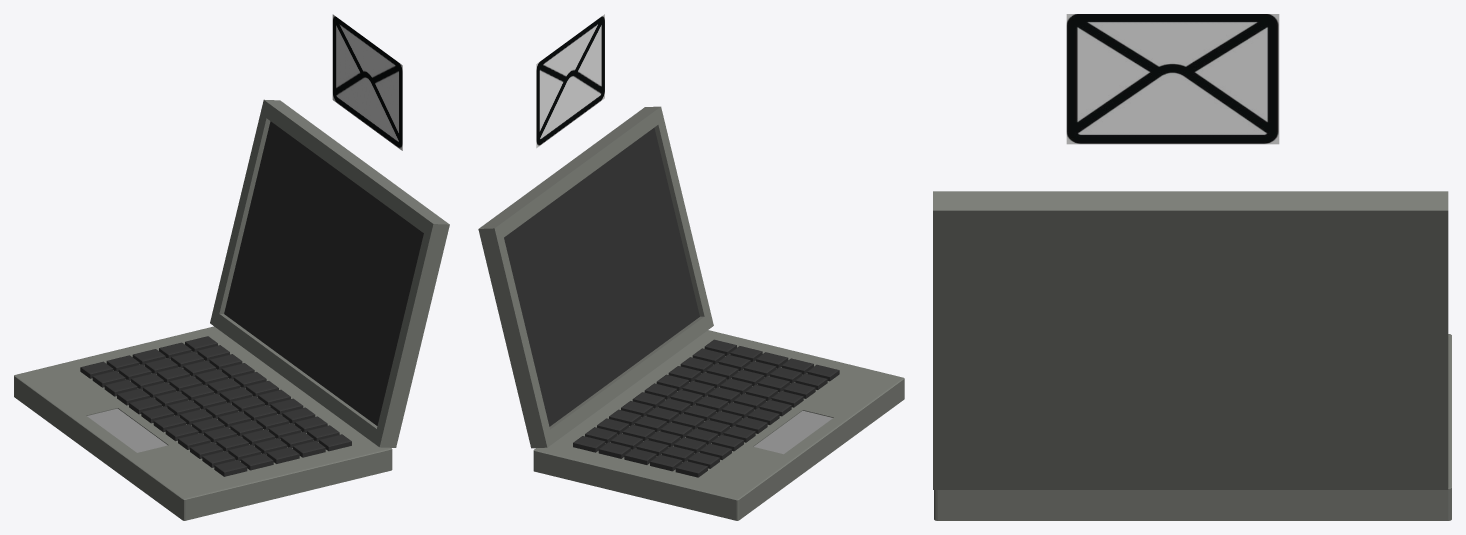
The picture shows the model from 3 angles, left to right: view 1: azimuth 30°, elevation 25°; view 2: azimuth 150°, elevation 25°; view 3: azimuth 270°, elevation 25°; orthographic projection. The views are drawn at different scales.
Parts seen in each view (by area): view 1: PC.002, PC, PC.003, PC.004, MAIL, PC.001; view 2: PC.002, PC, PC.003, PC.004, MAIL, PC.001; view 3: PC.004, MAIL, PC.
Boxes of the visible parts, x1,y1,x2,y2 form: PC.002: (224,121,423,425); PC: (14,326,392,520); PC.003: (80,336,351,476); PC.004: (210,99,449,447); MAIL: (332,14,402,150); PC.001: (87,408,167,452); PC.002: (504,127,699,426); PC: (533,330,904,520); PC.003: (573,339,839,477); PC.004: (478,106,713,448); MAIL: (536,14,604,148); PC.001: (753,410,832,454); PC.004: (933,191,1448,489); MAIL: (1066,14,1279,144); PC: (934,334,1451,520).
Bounding box in the file's own units: 0.161 × 0.2085 × 0.1793.
4 materials, 1 textured.
